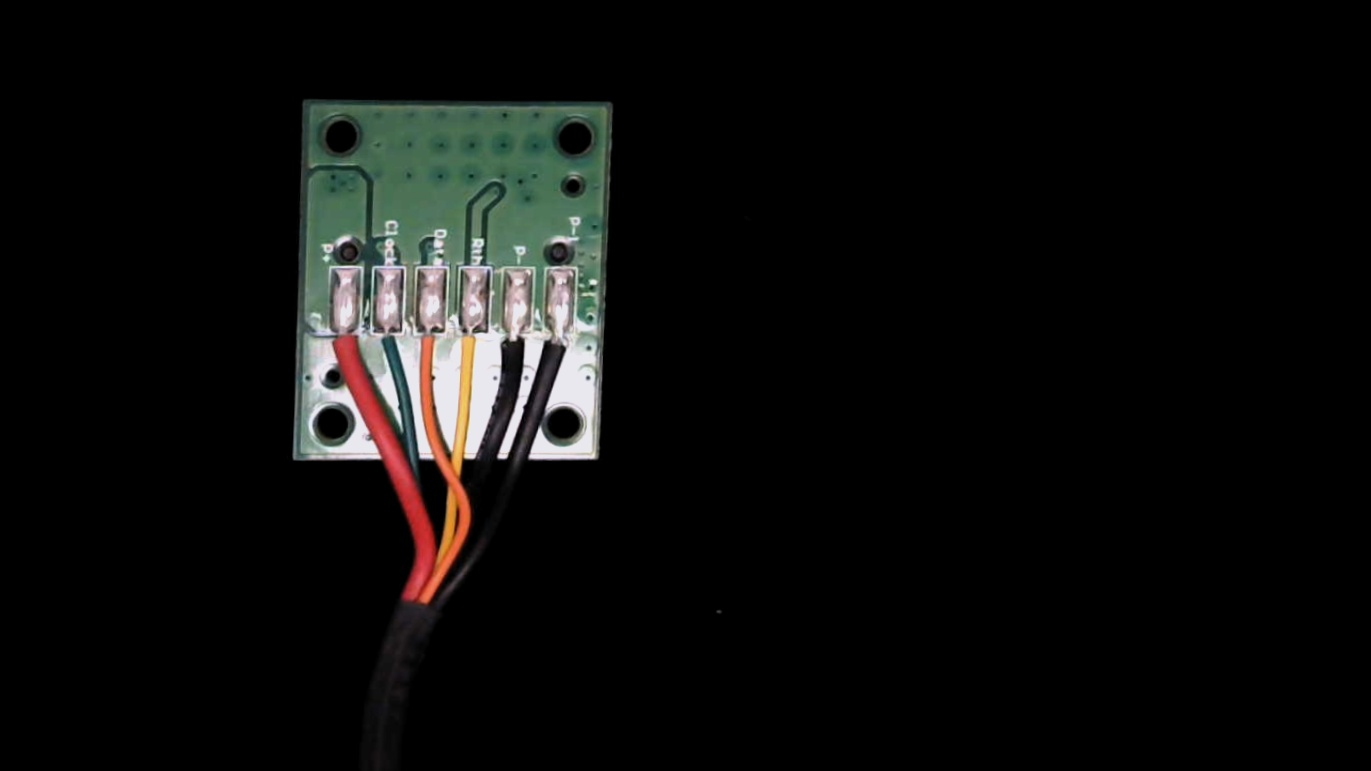Black: (498, 317, 530, 378)
Black1: (540, 318, 574, 379)
Green: (368, 314, 405, 371)
Orange: (410, 316, 448, 373)
Red: (327, 313, 358, 371)
Yellow: (452, 318, 490, 380)
